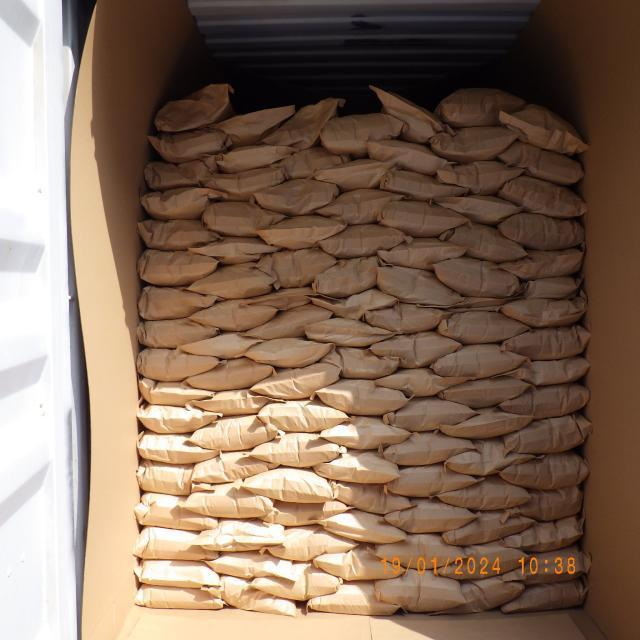gunny_bag: (503, 102, 591, 156), (263, 96, 346, 151), (368, 85, 444, 144), (202, 574, 298, 618), (376, 568, 466, 614), (153, 82, 234, 132), (376, 264, 466, 309), (497, 140, 588, 184), (499, 174, 587, 218), (442, 220, 529, 264), (502, 414, 592, 456), (434, 256, 522, 298), (314, 542, 405, 582), (251, 560, 340, 600), (498, 211, 586, 251), (188, 413, 278, 452), (316, 378, 406, 417), (377, 532, 469, 570), (378, 198, 465, 238), (306, 580, 401, 616), (377, 234, 467, 272), (502, 323, 592, 361), (500, 452, 592, 489), (211, 105, 296, 145), (370, 331, 461, 368), (385, 396, 476, 433), (320, 115, 402, 156), (257, 248, 337, 290), (252, 362, 338, 401), (386, 463, 476, 500), (366, 138, 449, 178), (431, 124, 516, 163), (182, 483, 274, 519), (440, 86, 522, 126), (318, 187, 402, 226), (327, 478, 413, 516), (440, 308, 526, 346), (438, 578, 524, 616), (252, 432, 340, 469), (266, 524, 354, 561), (386, 498, 474, 535), (244, 467, 334, 503), (320, 416, 410, 452), (312, 448, 402, 484), (440, 546, 530, 582), (501, 384, 593, 419), (254, 178, 338, 216), (188, 263, 274, 300), (260, 398, 348, 434), (136, 492, 217, 531), (436, 160, 521, 197), (186, 356, 273, 392), (434, 345, 526, 379), (445, 438, 523, 478), (146, 128, 232, 164), (246, 304, 332, 340), (443, 511, 531, 546), (137, 248, 218, 286), (134, 526, 219, 562), (378, 167, 465, 202), (194, 519, 286, 552), (189, 298, 278, 332), (200, 167, 286, 202), (257, 215, 343, 250), (384, 432, 474, 465), (442, 476, 529, 510), (137, 347, 219, 383), (508, 549, 590, 585), (202, 202, 286, 237), (320, 224, 404, 259), (440, 376, 529, 409), (436, 191, 522, 225), (323, 510, 408, 544), (503, 580, 588, 614), (374, 366, 464, 398), (442, 408, 532, 440), (508, 484, 588, 520), (504, 516, 584, 552), (506, 292, 588, 327), (138, 187, 224, 220), (138, 286, 216, 322), (320, 346, 400, 381), (311, 288, 398, 320), (137, 459, 212, 496), (312, 158, 396, 191), (246, 336, 332, 368), (305, 318, 396, 348), (137, 220, 222, 252), (204, 550, 294, 580), (364, 304, 454, 334), (192, 451, 276, 483), (501, 247, 585, 279), (315, 256, 382, 296), (136, 432, 218, 464), (258, 498, 348, 526), (144, 156, 218, 190), (276, 146, 350, 180), (137, 377, 215, 408), (512, 356, 590, 387), (134, 560, 220, 588), (138, 319, 218, 349), (137, 404, 217, 434), (192, 388, 274, 417), (215, 144, 294, 174), (190, 237, 276, 264), (134, 584, 223, 610), (180, 332, 262, 360), (248, 286, 320, 311), (517, 276, 583, 300)
